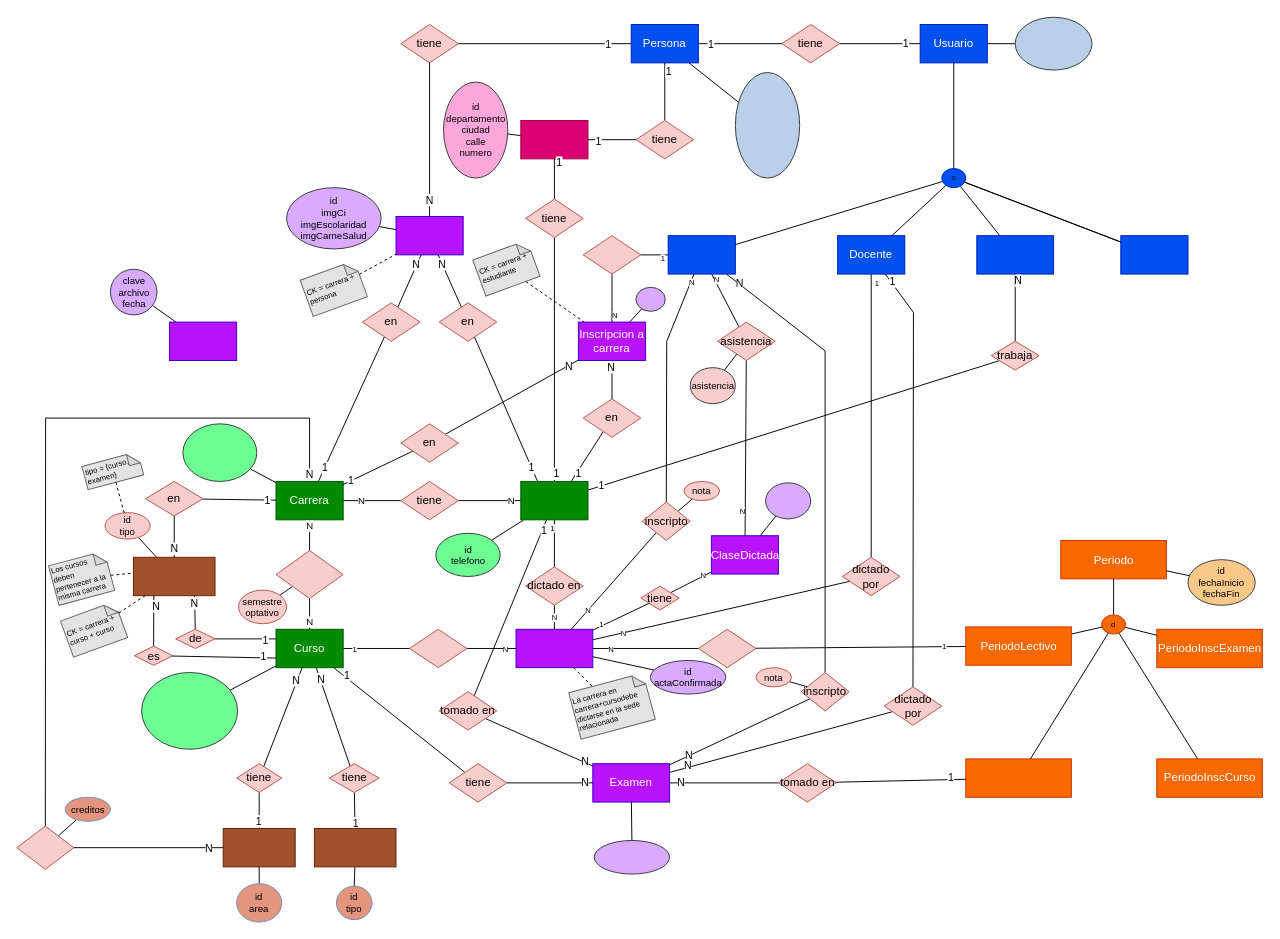
Some shapes in this 1280 by 939 pixel diagram are drawn without their labels. The shapes that lost their labels are listed below. From the top down, each one's box as (x1, y1, x2, y2) in pixels, then its label:
(1014, 16, 1092, 70): id contrasenia remember_token
(520, 120, 588, 159): Direccion
(734, 72, 800, 178): id ci nombre apellido correo fechaNac sexo
(395, 216, 463, 255): Postulacion
(582, 235, 641, 274): cursa
(667, 235, 735, 274): Estudiante
(976, 235, 1054, 274): Administrativo
(1120, 235, 1188, 274): Admin
(635, 286, 665, 311): id
(168, 321, 237, 360): Escolaridad
(182, 423, 257, 481): id nombre descripcion cantSemestres
(520, 480, 588, 520): Sede
(765, 482, 811, 519): id fecha
(132, 556, 215, 596): Previa
(275, 550, 343, 599): posee
(408, 628, 467, 668): dictada
(515, 628, 593, 668): EdicionCurso
(697, 628, 756, 668): dictadaEn
(141, 672, 238, 749): id nombre descripcion maxInasistencias cantCréditos cantClases
(965, 758, 1071, 797): PeriodoExamen
(16, 825, 74, 869): minimo
(222, 828, 295, 867): AreaDeEstudio
(313, 828, 396, 867): TipoDeCurso
(593, 840, 670, 874): id actaConfirmada fecha
